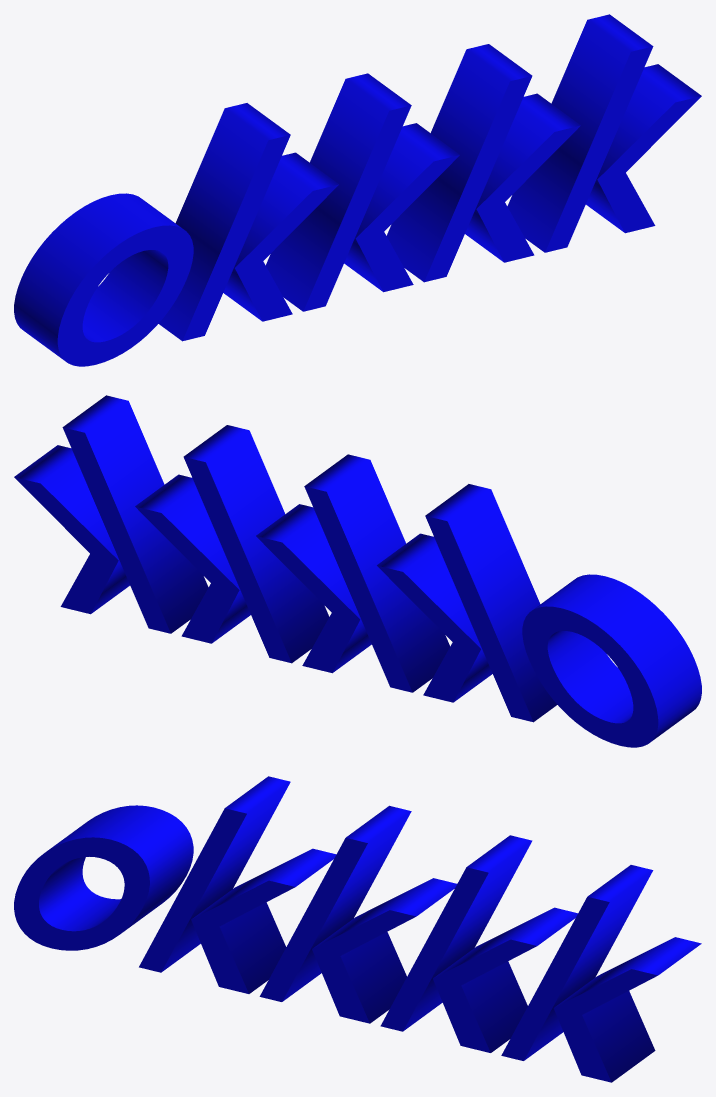
3 views of the same model, one above another, from view 1: azimuth 30°, elevation 25°; view 2: azimuth 150°, elevation 25°; view 3: azimuth 330°, elevation 25° (orthographic).
Visible parts, largest first — view 1: Text; view 2: Text; view 3: Text.
Boxes of the visible parts, x1,y1,x2,y2 form: Text: (14,14,701,366); Text: (14,395,701,747); Text: (14,776,701,1082).
Bounding box in the file's own units: 3.83 × 1.04 × 0.45.
